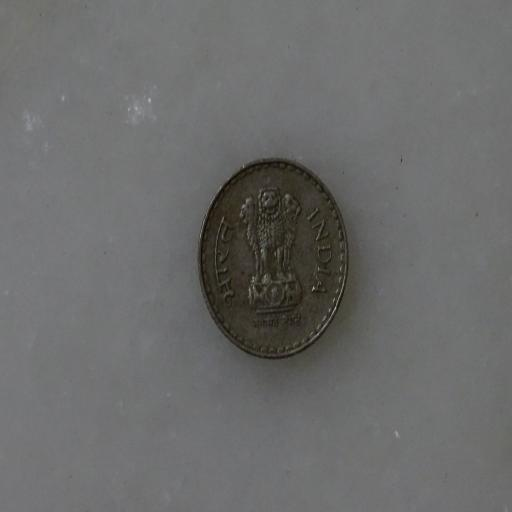rupee5: (188, 155, 350, 366)
